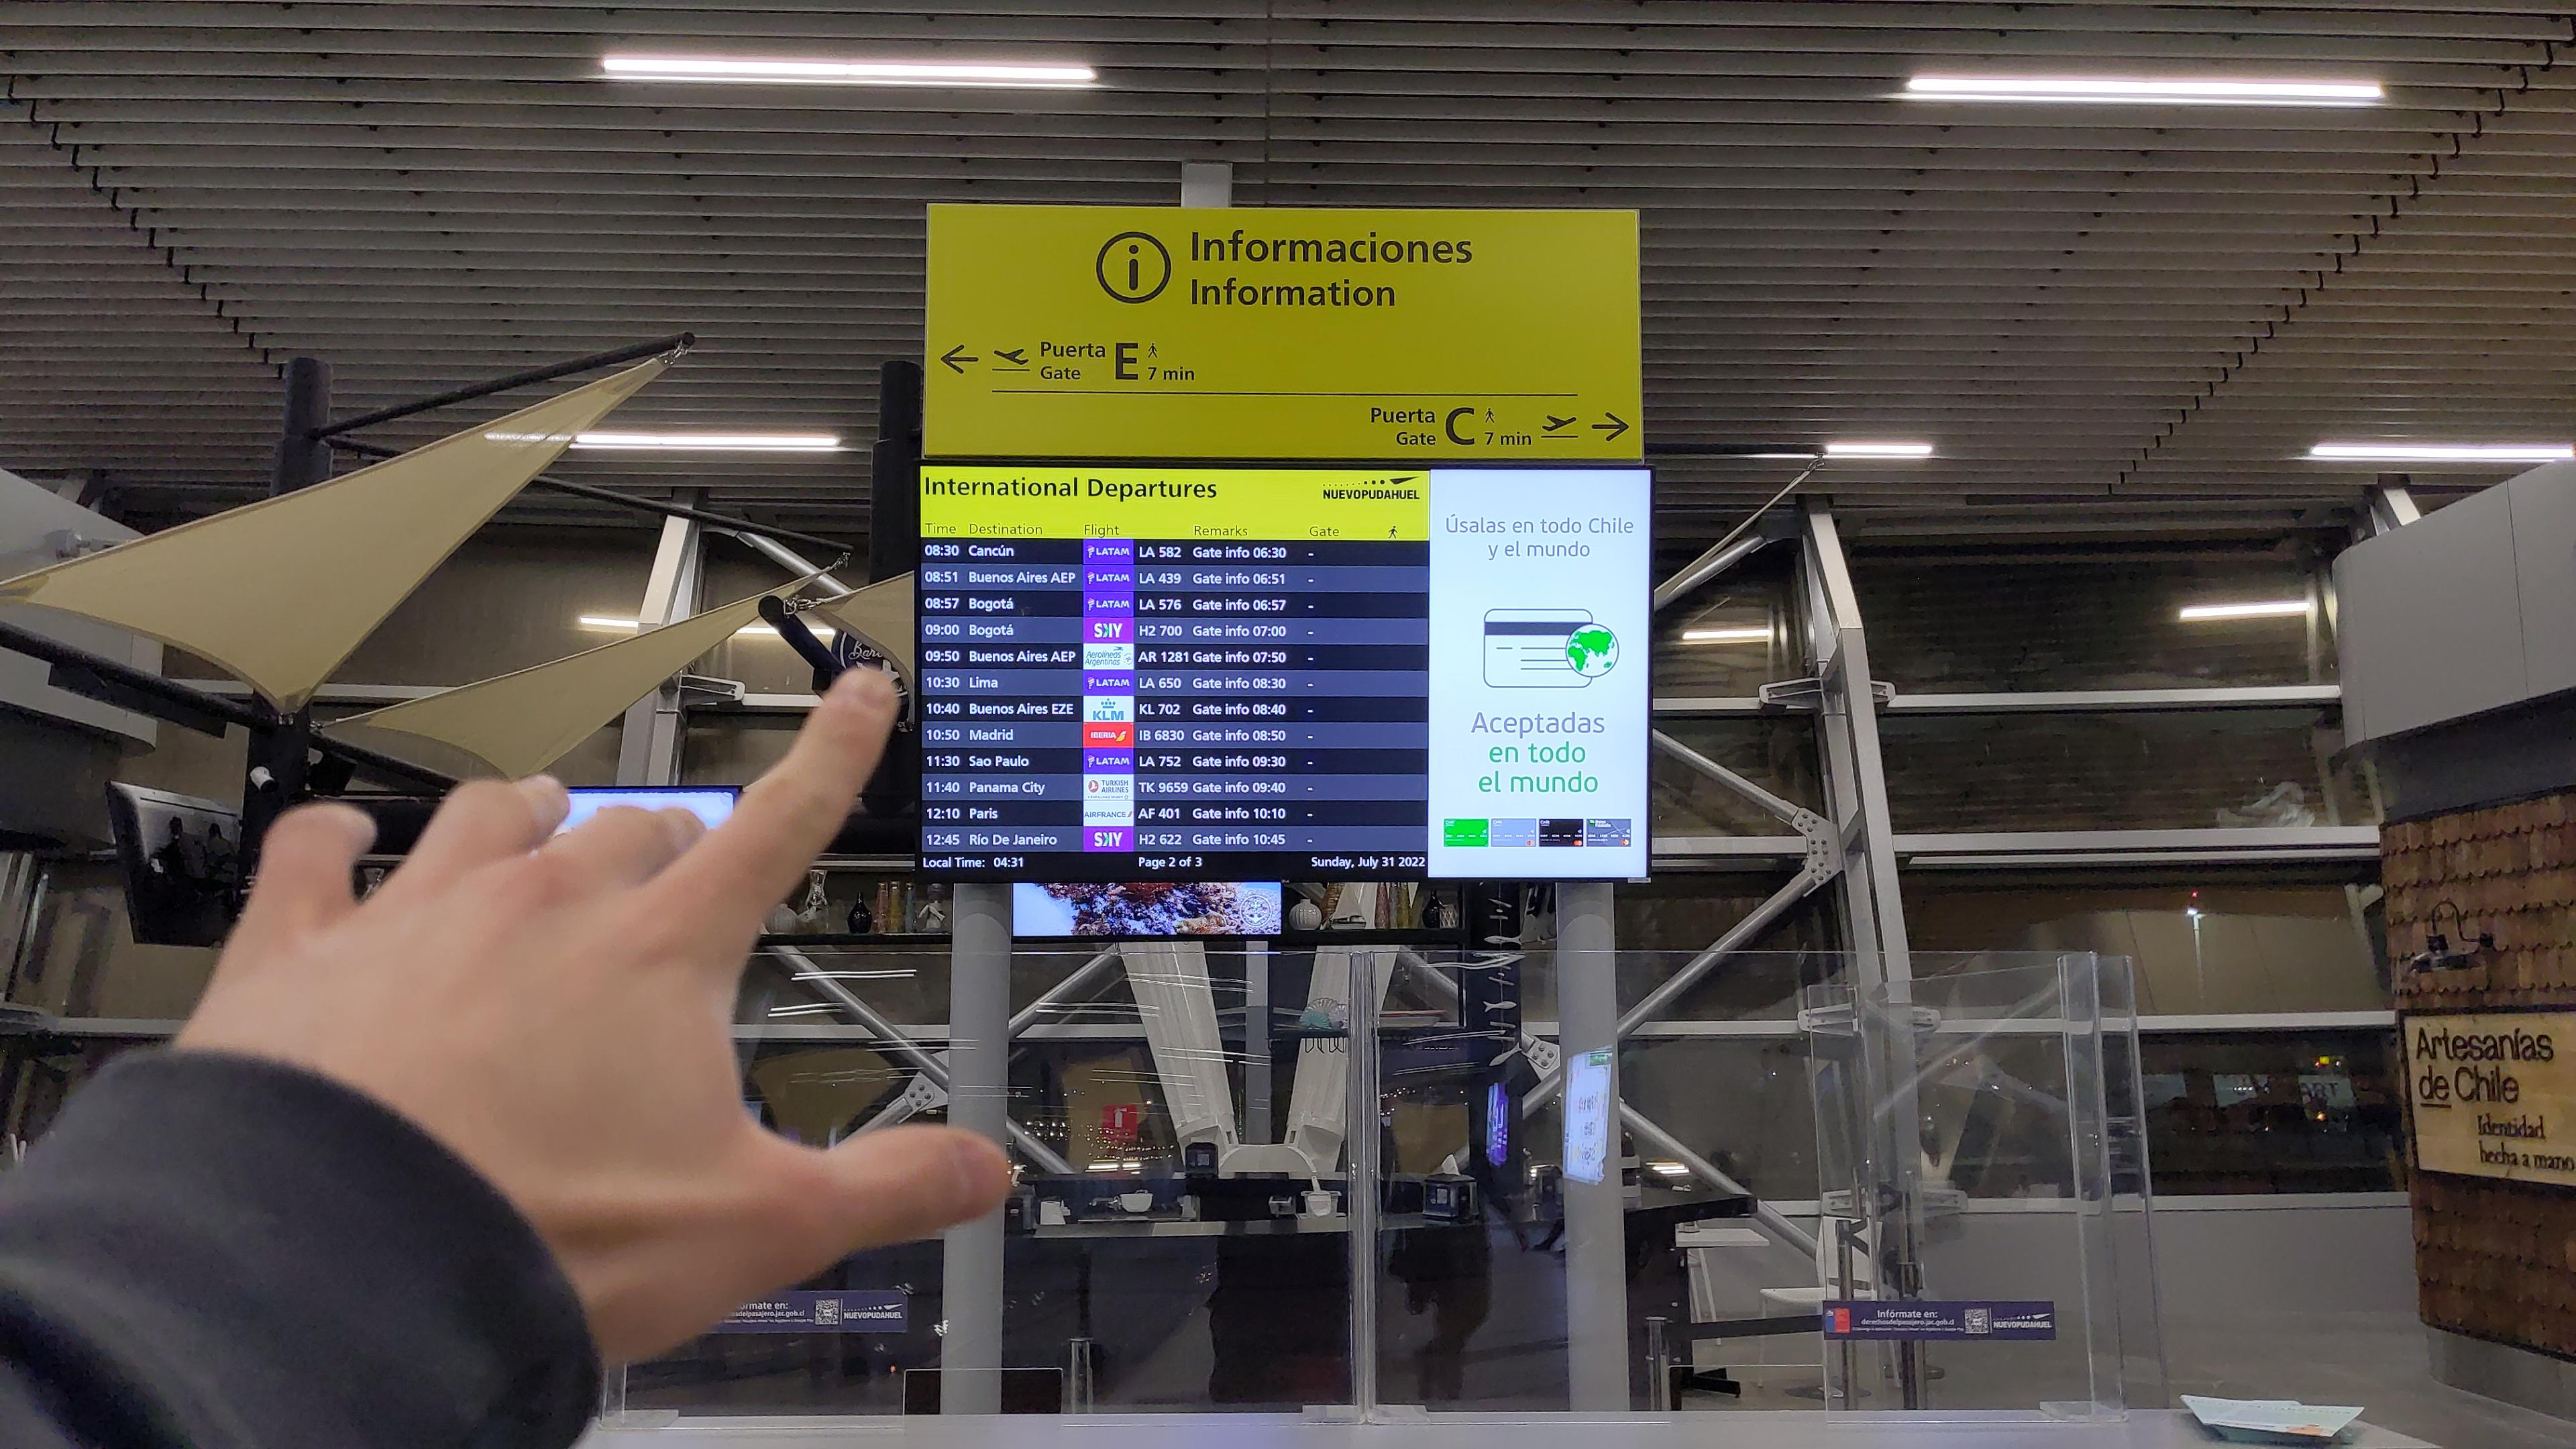airplane symbol: (1539, 412, 1580, 435), (989, 347, 1033, 366)
thin left arrow: (938, 341, 980, 375)
thin right arrow: (1589, 410, 1633, 444)
